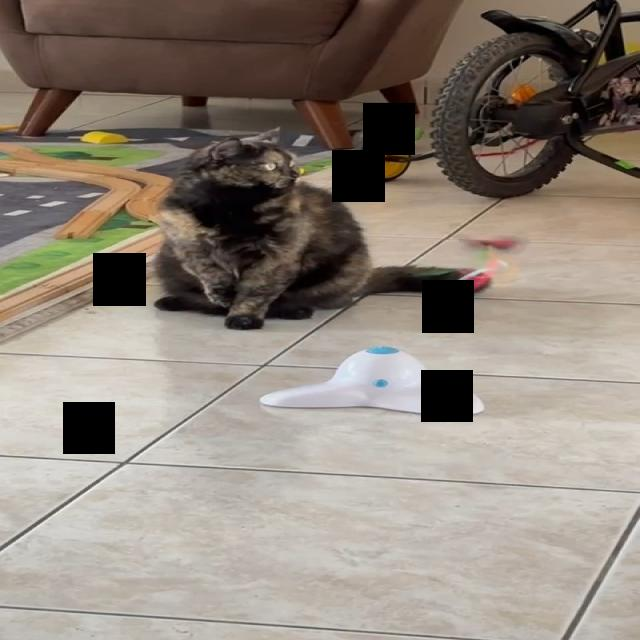authorized: (150, 126, 490, 330)
